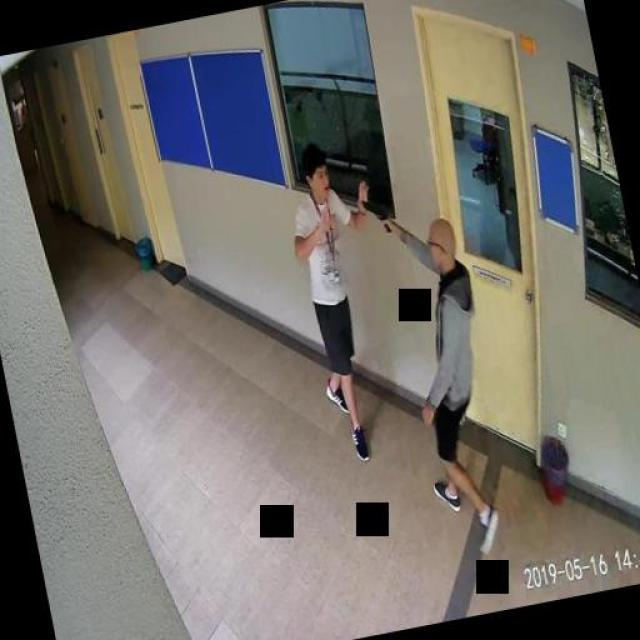gun: (360, 195, 390, 235)
